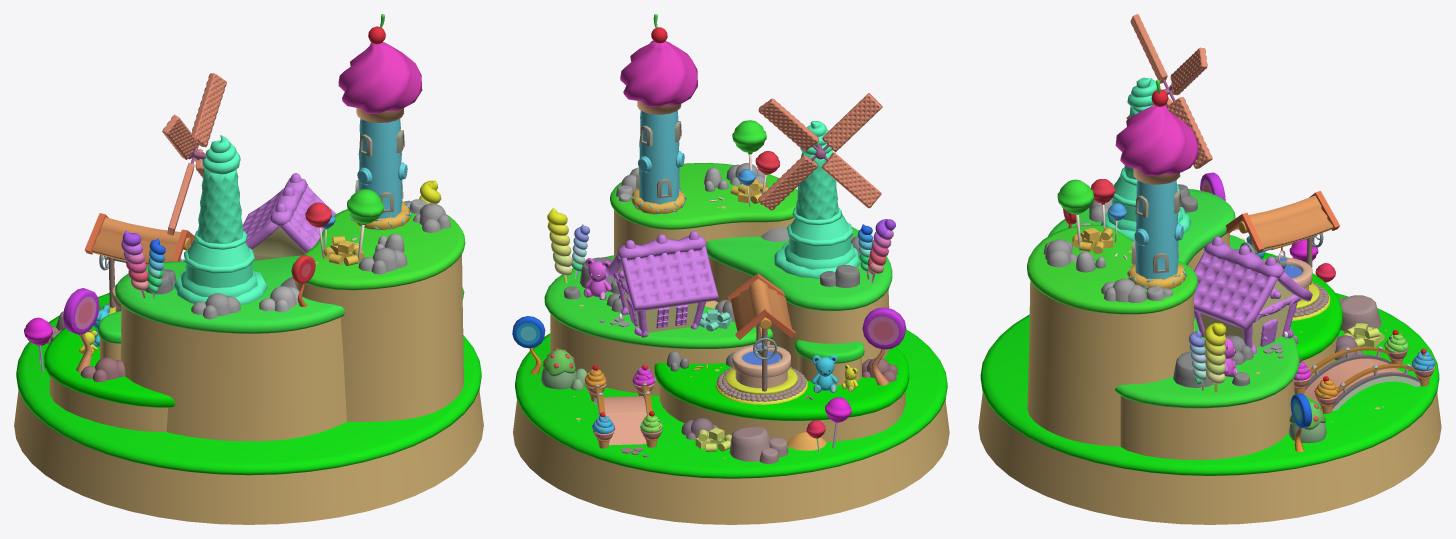
File: candy.fbx
3 views of the same model, side by side, from view 1: azimuth 30°, elevation 25°; view 2: azimuth 150°, elevation 25°; view 3: azimuth 270°, elevation 25° (orthographic). The views are drawn at different scales.
Visible parts, largest first — view 1: diorama_candy, diorama_candy.001, windmill, diorama_candy.005, diorama_candy.004, tower.006, diorama_candy.002, house, tower, windmill.001, well.001, house.001 (+13 smaller); view 2: diorama_candy, diorama_candy.001, house, diorama_candy.002, windmill, diorama_candy.005, diorama_candy.003, diorama_candy.004, windmill.001, tower.006, tower, well.001 (+24 smaller); view 3: diorama_candy, diorama_candy.001, house, diorama_candy.004, diorama_candy.003, tower.006, tower, well.001, windmill.001, diorama_candy.005, windmill, diorama_candy.002 (+15 smaller).
Part boxes in pixels (x1,y1,x2,y2): diorama_candy: (14, 254, 483, 524); diorama_candy.001: (16, 293, 481, 475); windmill: (173, 135, 268, 304); diorama_candy.005: (115, 255, 344, 333); diorama_candy.004: (291, 209, 465, 290); tower.006: (338, 42, 422, 113); diorama_candy.002: (44, 306, 174, 407); house: (243, 173, 336, 252); tower: (350, 118, 411, 230); windmill.001: (162, 73, 226, 235); well.001: (91, 217, 190, 265); house.001: (252, 226, 305, 260); diorama_candy: (513, 206, 949, 524); diorama_candy.001: (515, 329, 947, 478); house: (605, 231, 718, 337); diorama_candy.002: (654, 347, 909, 420); windmill: (774, 121, 870, 278); diorama_candy.005: (706, 227, 892, 310); diorama_candy.003: (544, 255, 772, 348); diorama_candy.004: (610, 163, 797, 229); windmill.001: (758, 93, 882, 210); tower.006: (620, 40, 697, 106); tower: (630, 110, 686, 213); well.001: (731, 279, 791, 331); diorama_candy: (978, 233, 1441, 524); diorama_candy.001: (980, 293, 1439, 475); house: (1194, 236, 1312, 354); diorama_candy.004: (1027, 224, 1197, 314); diorama_candy.003: (1115, 318, 1299, 408); tower.006: (1115, 105, 1198, 175); tower: (1127, 180, 1186, 289); well.001: (1233, 195, 1333, 249); windmill.001: (1126, 14, 1212, 168); diorama_candy.005: (1048, 189, 1235, 265); windmill: (1100, 51, 1191, 241); diorama_candy.002: (1262, 252, 1342, 361).
Size of the model in its own units: 4412 by 4191 by 4412.
